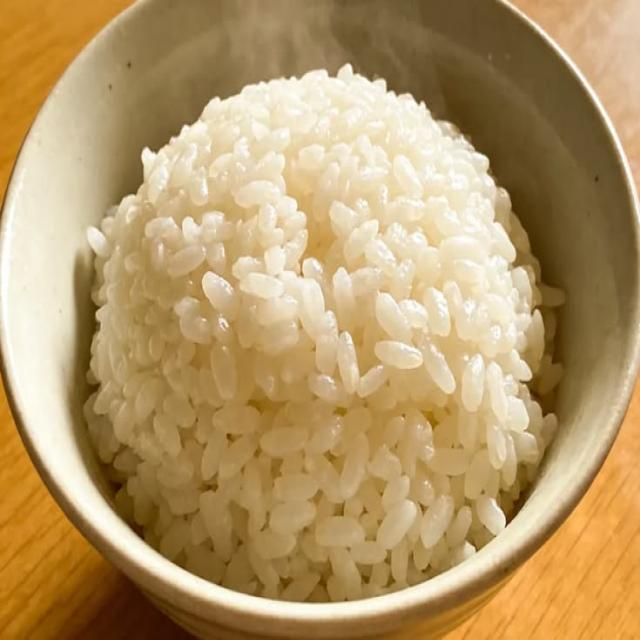rice: (86, 67, 563, 602)
